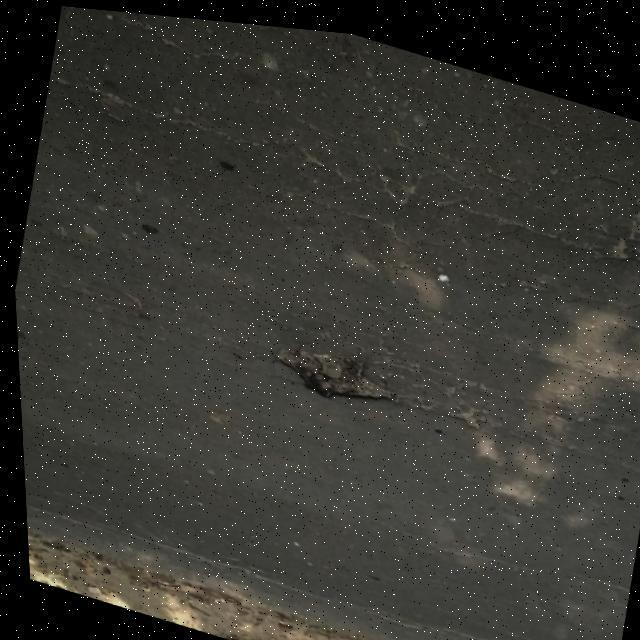pothole: (263, 328, 396, 412)
